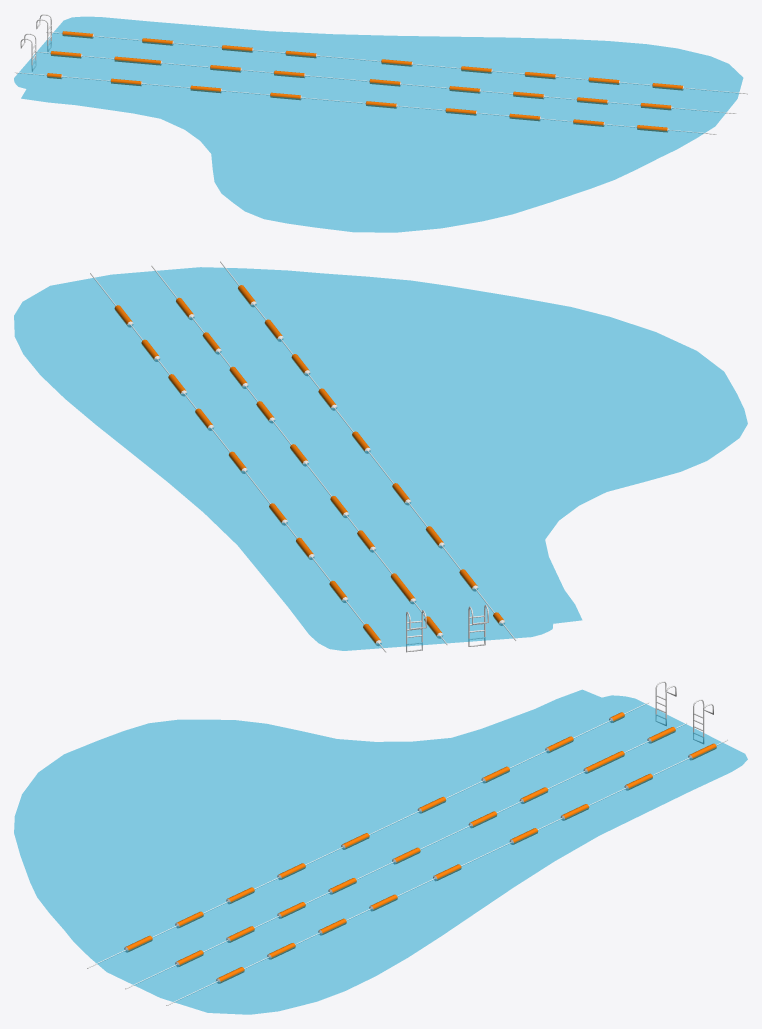
File: upisine.glb
3 renders of one model, top to bottom at view 1: azimuth 30°, elevation 25°; view 2: azimuth 150°, elevation 25°; view 3: azimuth 270°, elevation 25°, orthographic. The views are drawn at different scales.
Visible parts, largest first — view 1: glass_3, Line079, Shape4989; view 2: glass_3, Line079, Shape4989; view 3: glass_3, Line079, Shape4989.
Boxes of the visible parts, x1,y1,x2,y2 form: glass_3: (14,16,743,232); Line079: (15,31,747,134); Shape4989: (20,14,51,71); glass_3: (14,267,747,650); Line079: (90,261,516,652); Shape4989: (406,605,488,652); glass_3: (14,689,747,1014); Line079: (87,702,727,1005); Shape4989: (655,681,713,744).
Size of the model in its own units: 44.28 by 2.4 by 42.23.
